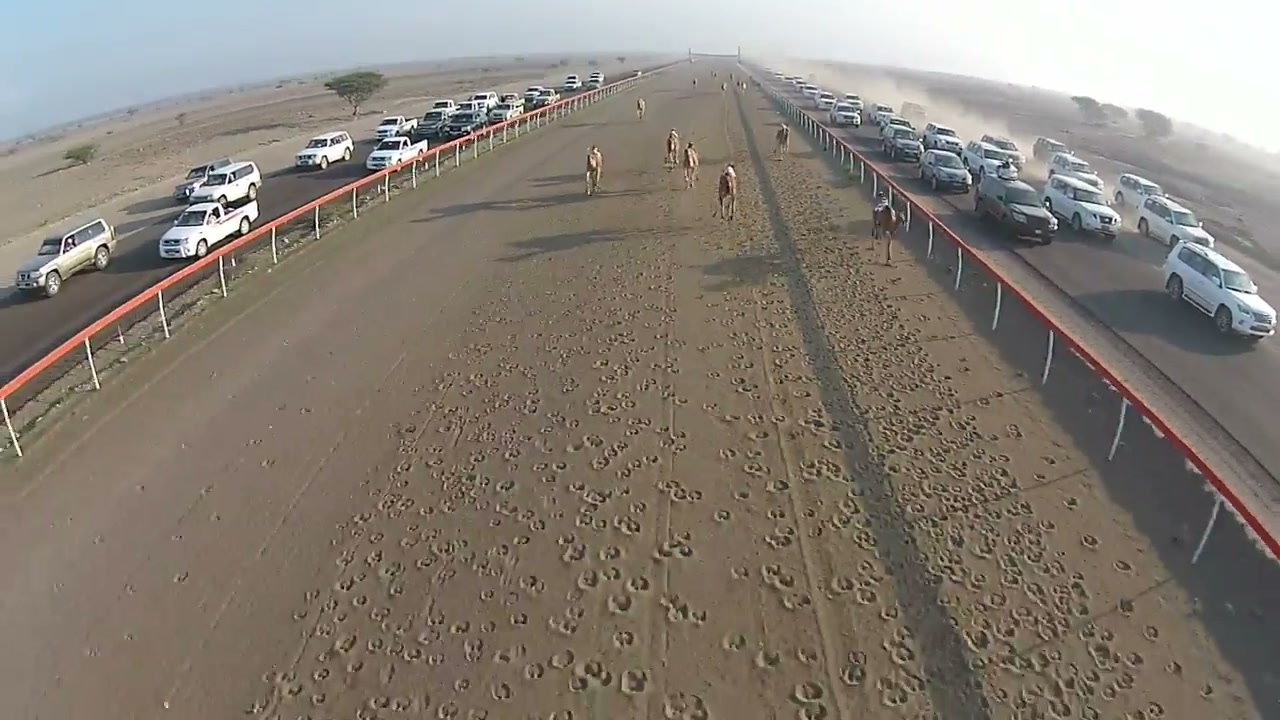animal_footprint: (256, 100, 1240, 719), (739, 155, 1254, 716)
